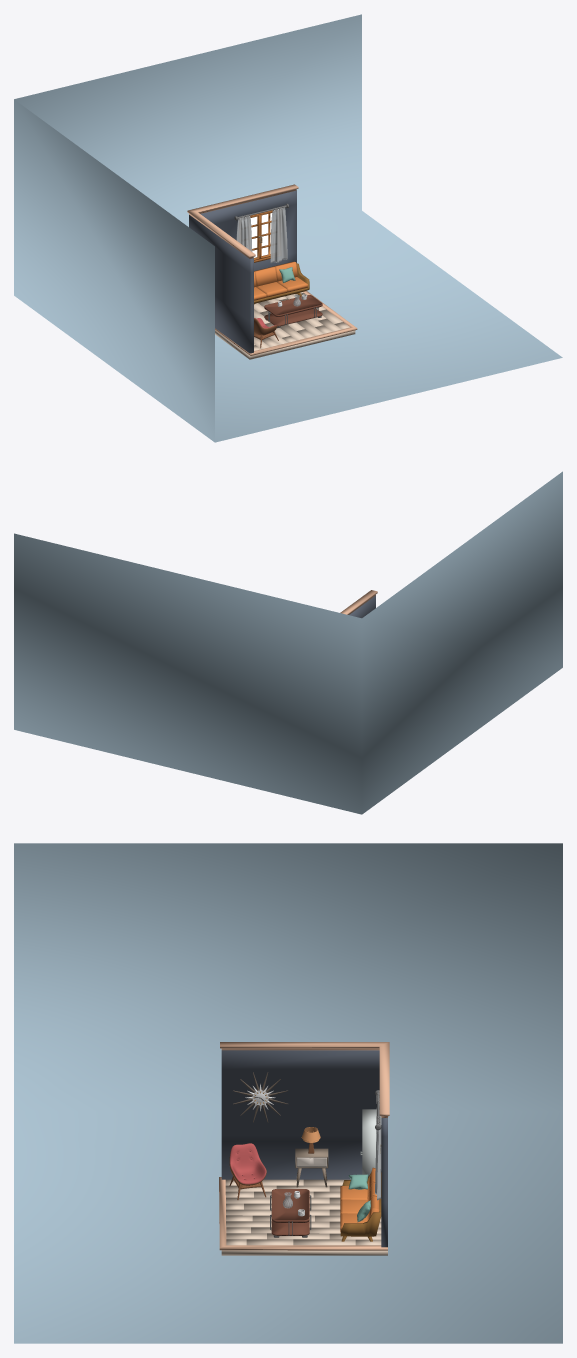
The model's file is free.glb.
3 views of the same model, one above another, from view 1: azimuth 30°, elevation 25°; view 2: azimuth 150°, elevation 25°; view 3: azimuth 270°, elevation 25° (orthographic). The views are drawn at different scales.
Visible parts, largest first — view 1: Plane.032, Cube, floor, Cube.003, Plane.031, Cube.002, Plane.007, Plane.002, Cube.001, Plane.003, Plane.033, Plane.006; view 2: Plane.032; view 3: Plane.032, Cube, floor, Cube.003, Cube.002, Plane.007, Cube.007, Cube.001, Cube.011, Plane.002, Plane.
Part boxes in pixels (bbox=[...]): Plane.032: bbox=[14, 14, 562, 442]; Cube: bbox=[189, 190, 296, 353]; floor: bbox=[254, 292, 349, 350]; Cube.003: bbox=[187, 184, 298, 258]; Plane.031: bbox=[270, 207, 287, 263]; Cube.002: bbox=[215, 291, 357, 355]; Plane.007: bbox=[264, 295, 322, 316]; Plane.002: bbox=[254, 277, 307, 300]; Cube.001: bbox=[215, 330, 355, 359]; Plane.003: bbox=[254, 261, 297, 287]; Plane.033: bbox=[250, 213, 272, 257]; Plane.006: bbox=[264, 308, 322, 326]; Plane.032: bbox=[14, 471, 562, 814]; Plane.032: bbox=[14, 843, 562, 1343]; Cube: bbox=[221, 1050, 387, 1247]; floor: bbox=[225, 1179, 381, 1245]; Cube.003: bbox=[220, 1042, 389, 1117]; Cube.002: bbox=[219, 1177, 387, 1250]; Plane.007: bbox=[271, 1189, 309, 1222]; Cube.007: bbox=[229, 1143, 266, 1185]; Cube.001: bbox=[221, 1250, 387, 1255]; Cube.011: bbox=[362, 1109, 381, 1176]; Plane.002: bbox=[340, 1186, 367, 1231]; Plane: bbox=[340, 1172, 381, 1236].
Bounding box in the file's own units: 13.74 × 7.41 × 13.74.
